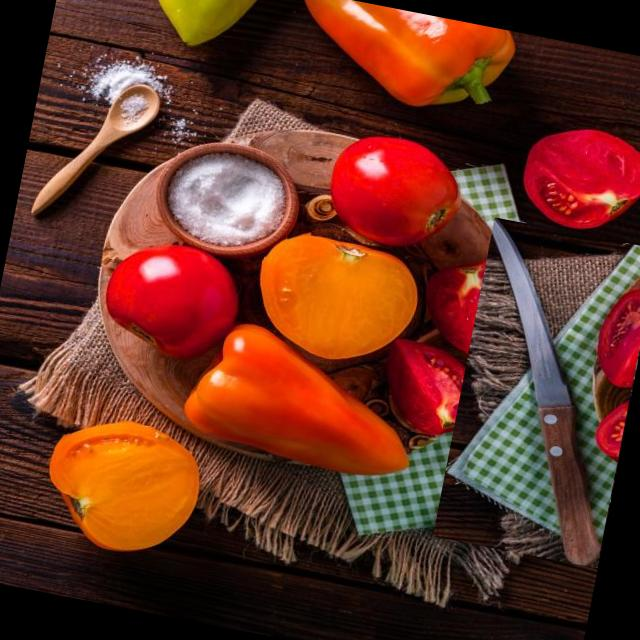Knife: (491, 218, 601, 566)
